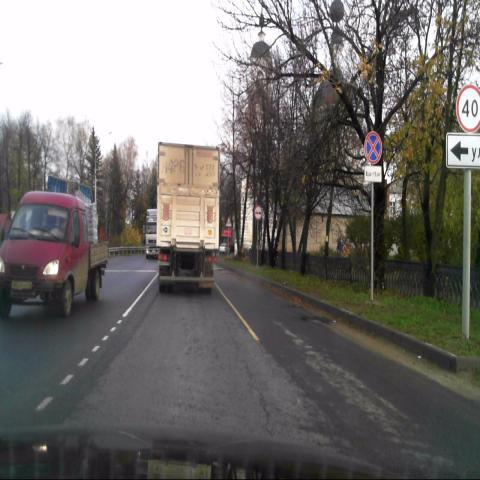3_27: (363, 130, 382, 164)
8_5_4: (363, 166, 382, 184)
